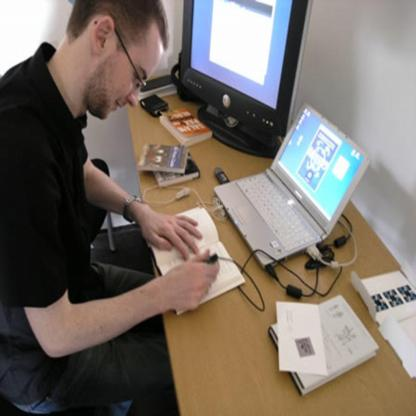board: (214, 102, 372, 268)
